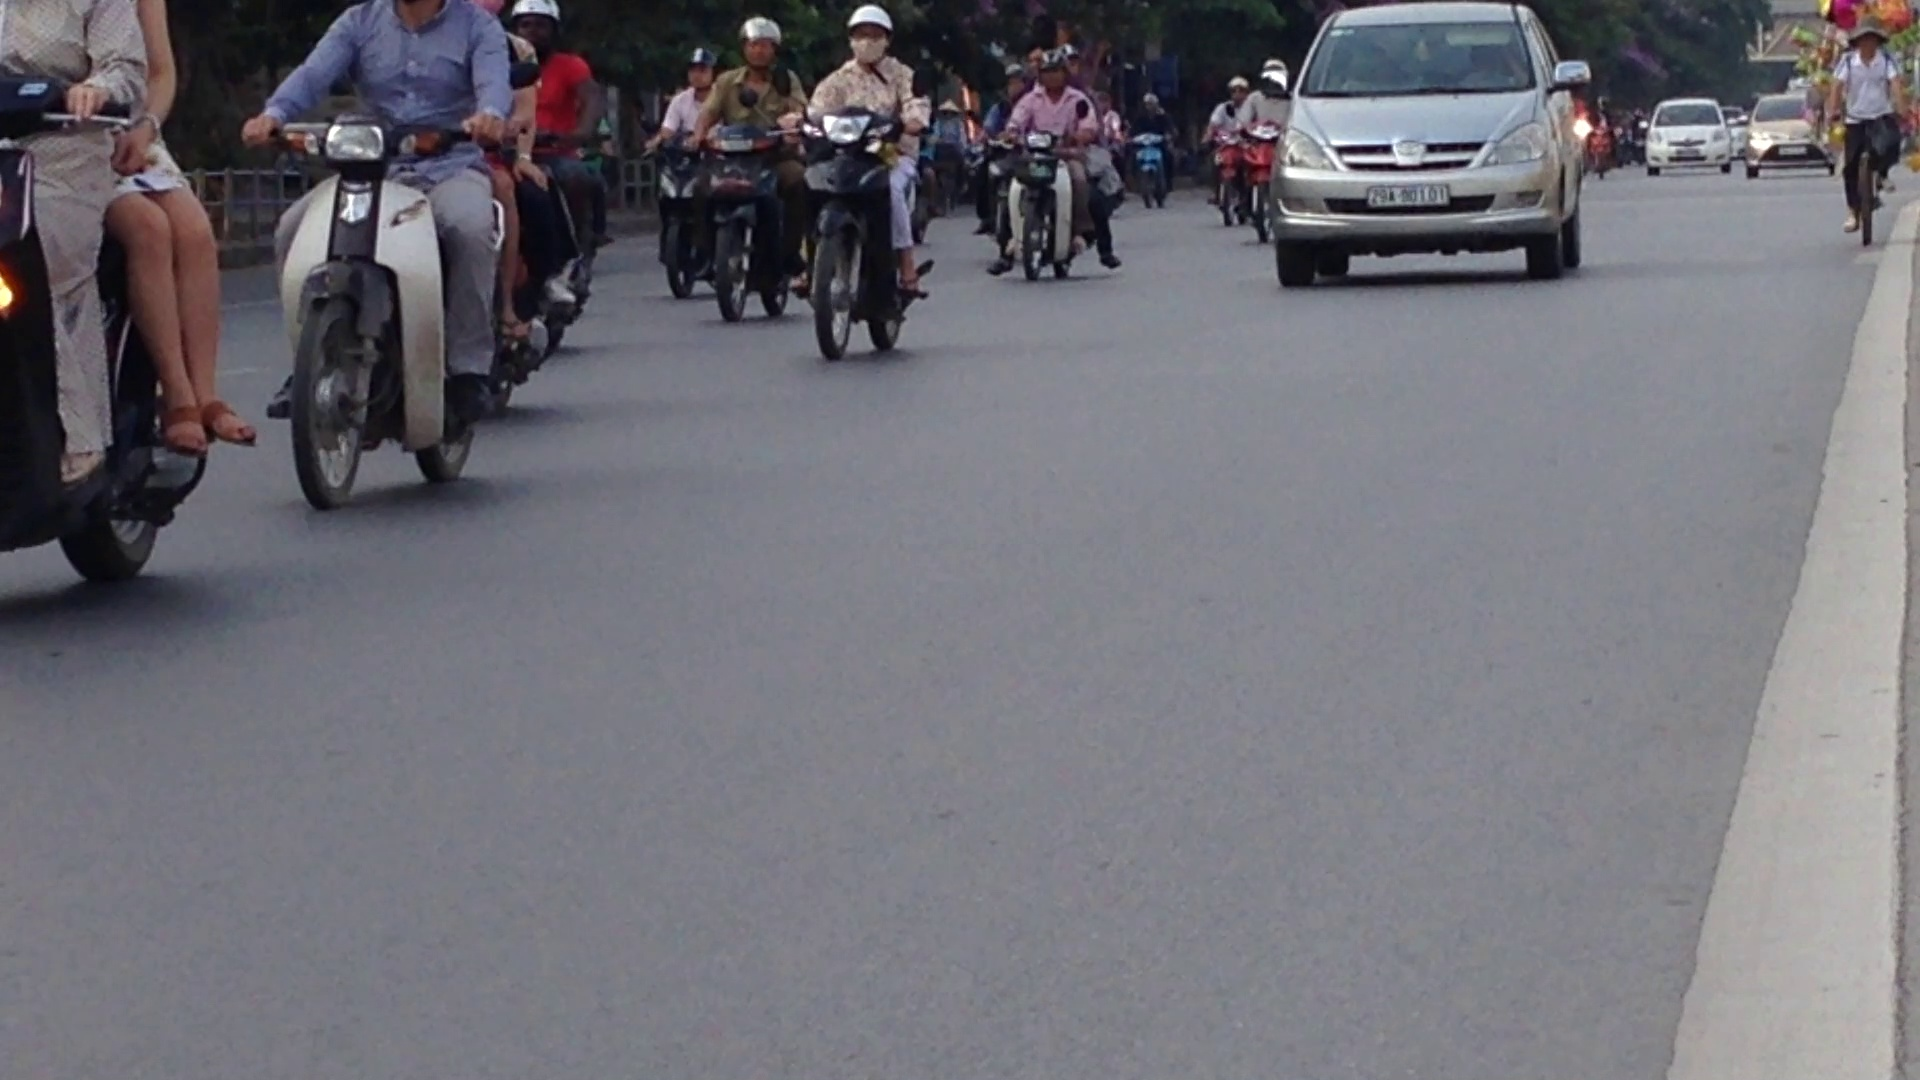person: (1360, 177, 1456, 210)
